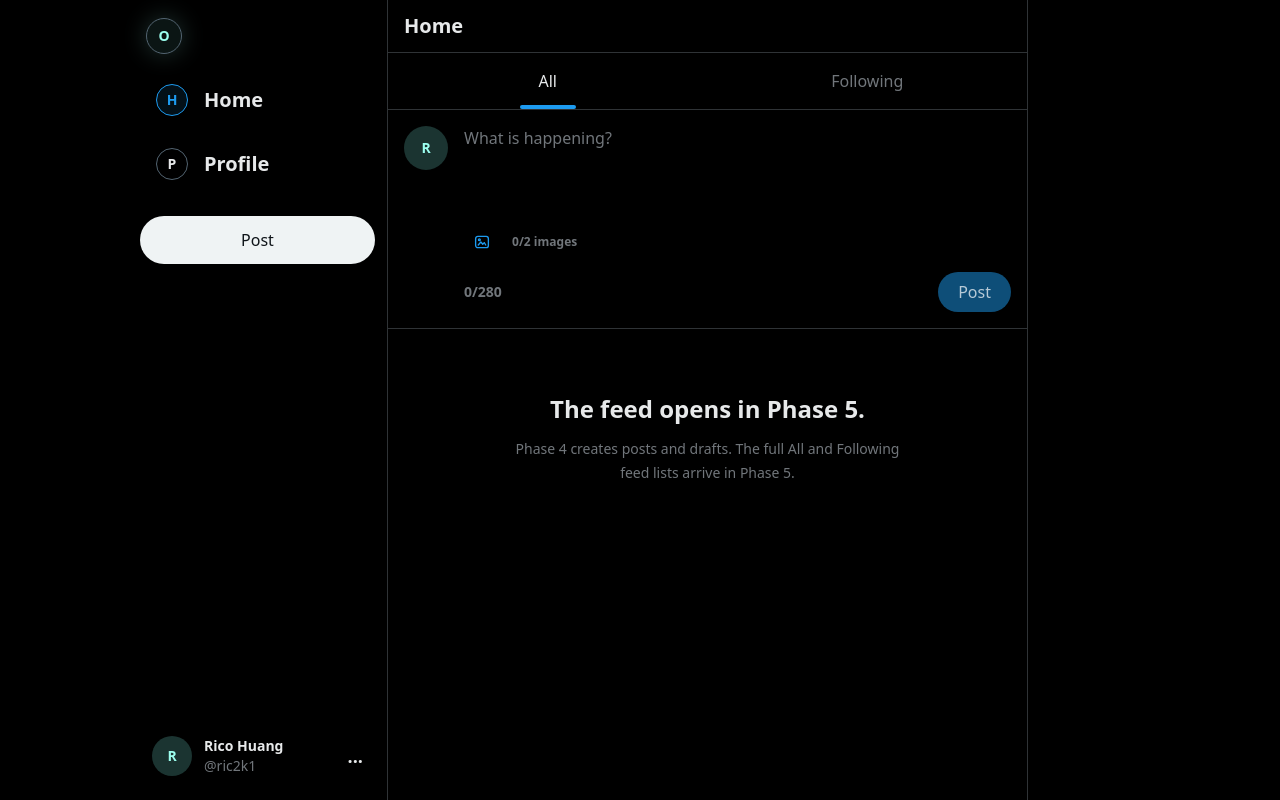
Test: Phase 4 post composer UI › shows a left-nav modal post in the Home center column preview
Click the button "Post" below "Profile": point(258, 240) [140,216,375,264]
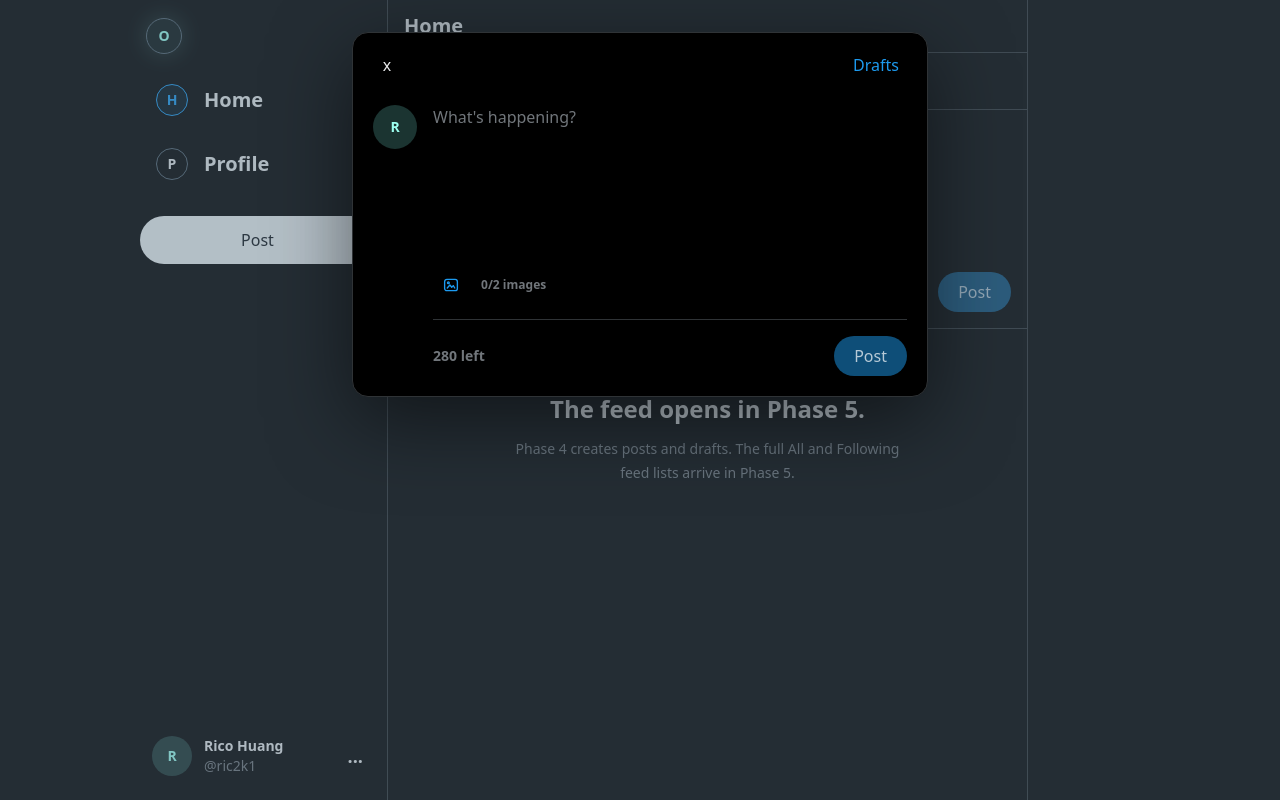
In the text box named "Post text": point(670, 177) [433,105,907,249], type "from modal @rico"
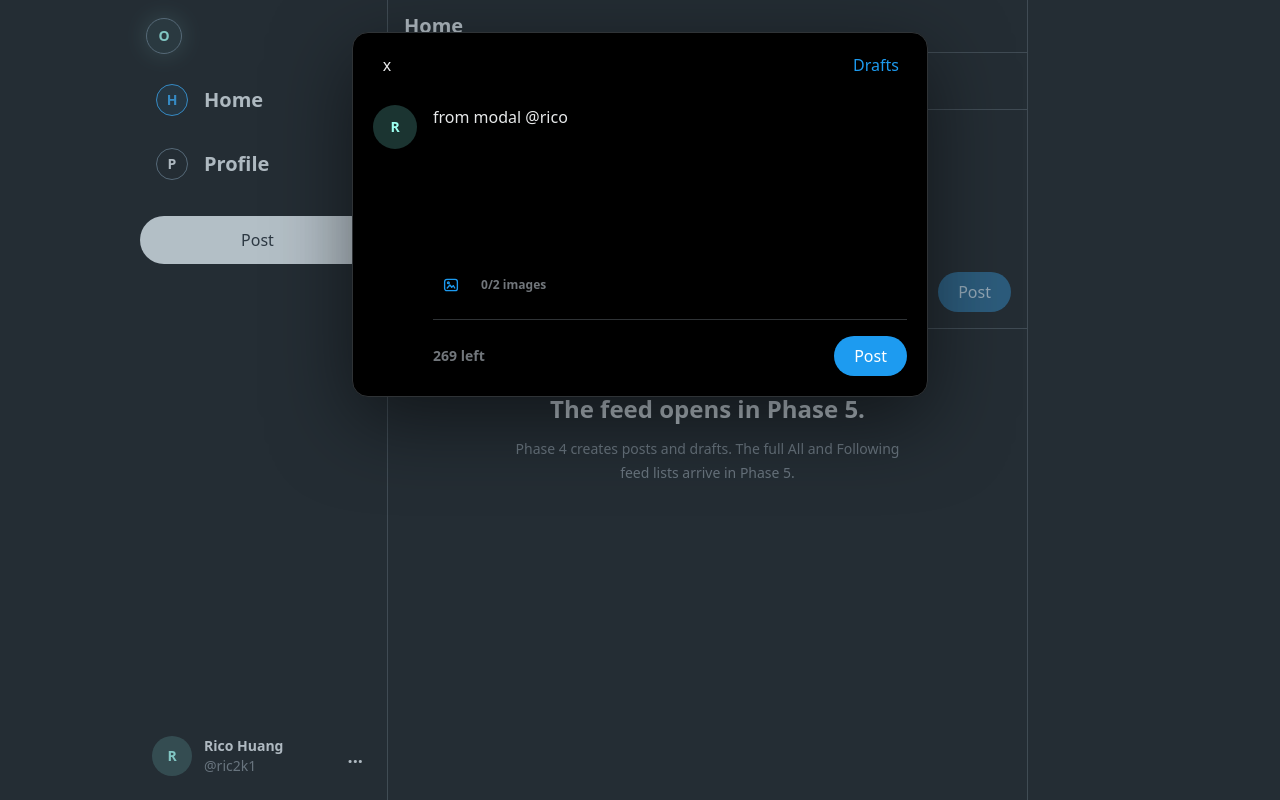
Click the button "Post": point(871, 356) [834,336,907,376]
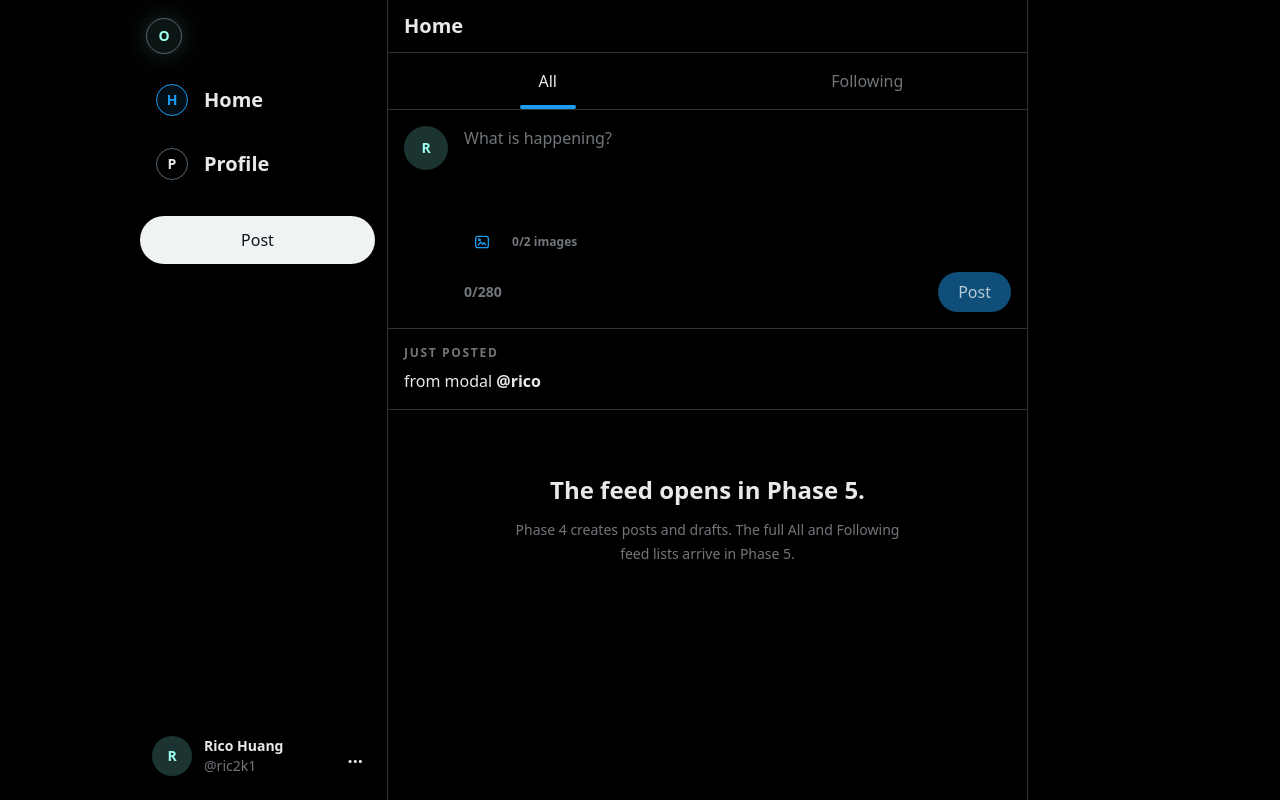
Check: the dialog "New post" is not shown
Check: the text "Just posted" is shown, box [404,344,498,361]
